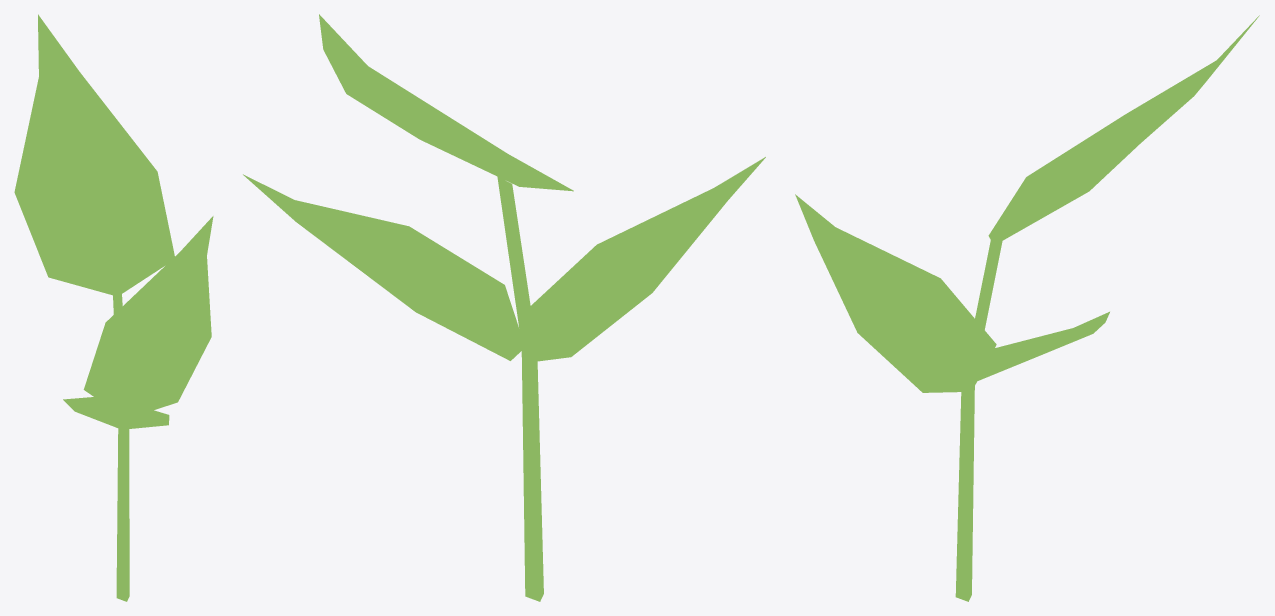
The model's file is Plant_f_TwoS_03.fbx.
3 renders of one model, left to right at view 1: azimuth 30°, elevation 25°; view 2: azimuth 150°, elevation 25°; view 3: azimuth 270°, elevation 25°, orthographic. The views are drawn at different scales.
Visible parts, largest first — view 1: Plant_f_TwoS_03; view 2: Plant_f_TwoS_03; view 3: Plant_f_TwoS_03.
Boxes of the visible parts, x1,y1,x2,y2 form: Plant_f_TwoS_03: (14, 14, 213, 601); Plant_f_TwoS_03: (243, 14, 765, 601); Plant_f_TwoS_03: (795, 15, 1259, 601).
Bounding box in the file's own units: 0.2775 × 0.5392 × 0.3769.
